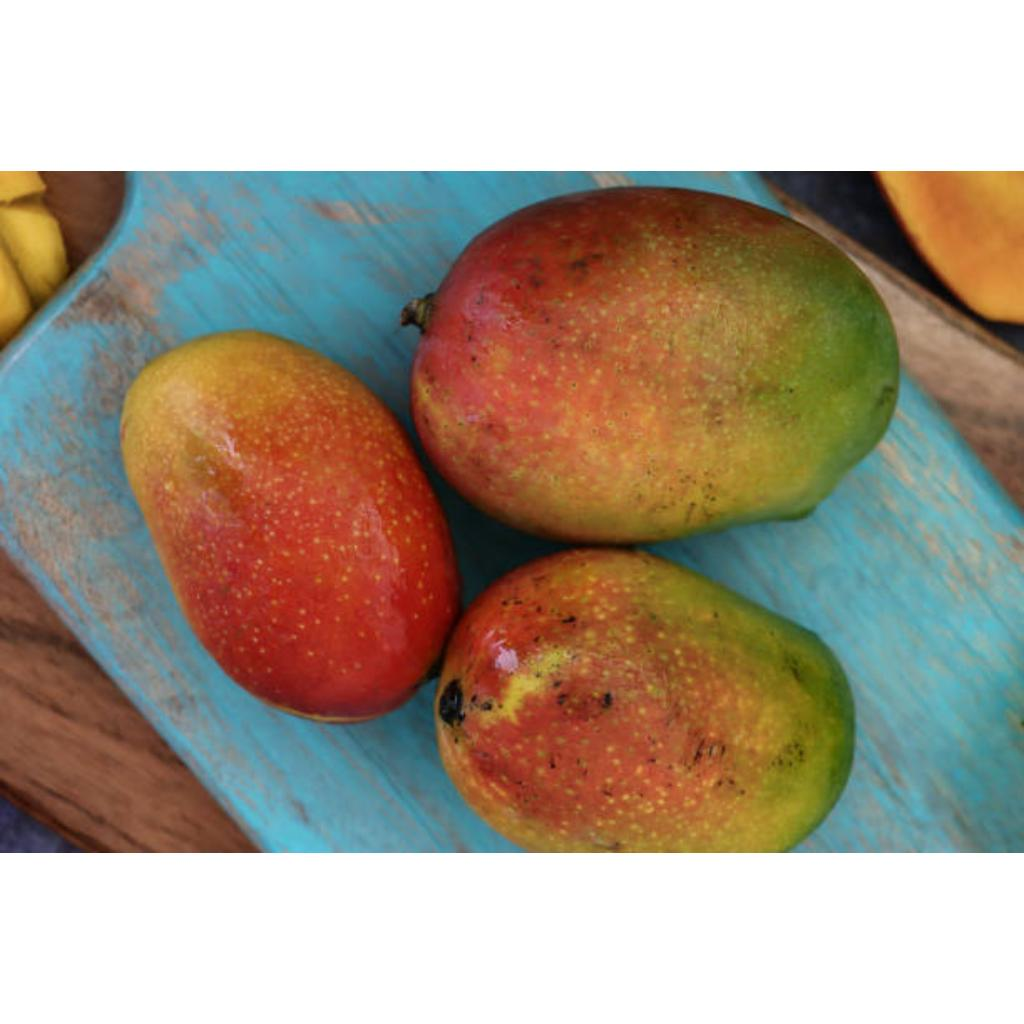mango: (412, 187, 898, 543), (122, 331, 460, 720), (436, 549, 852, 852)
